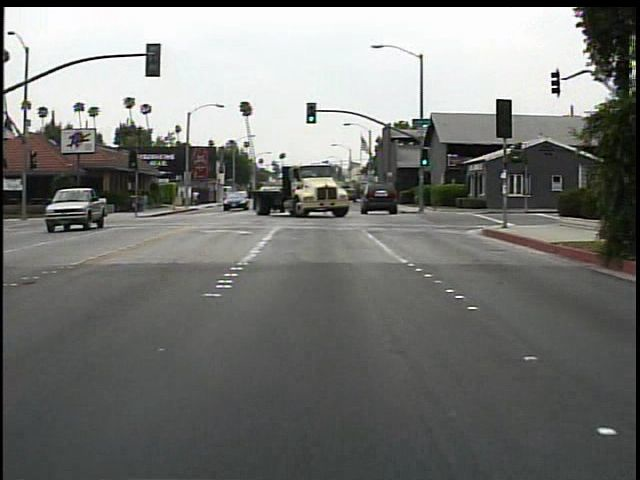person: (191, 187, 203, 208)
